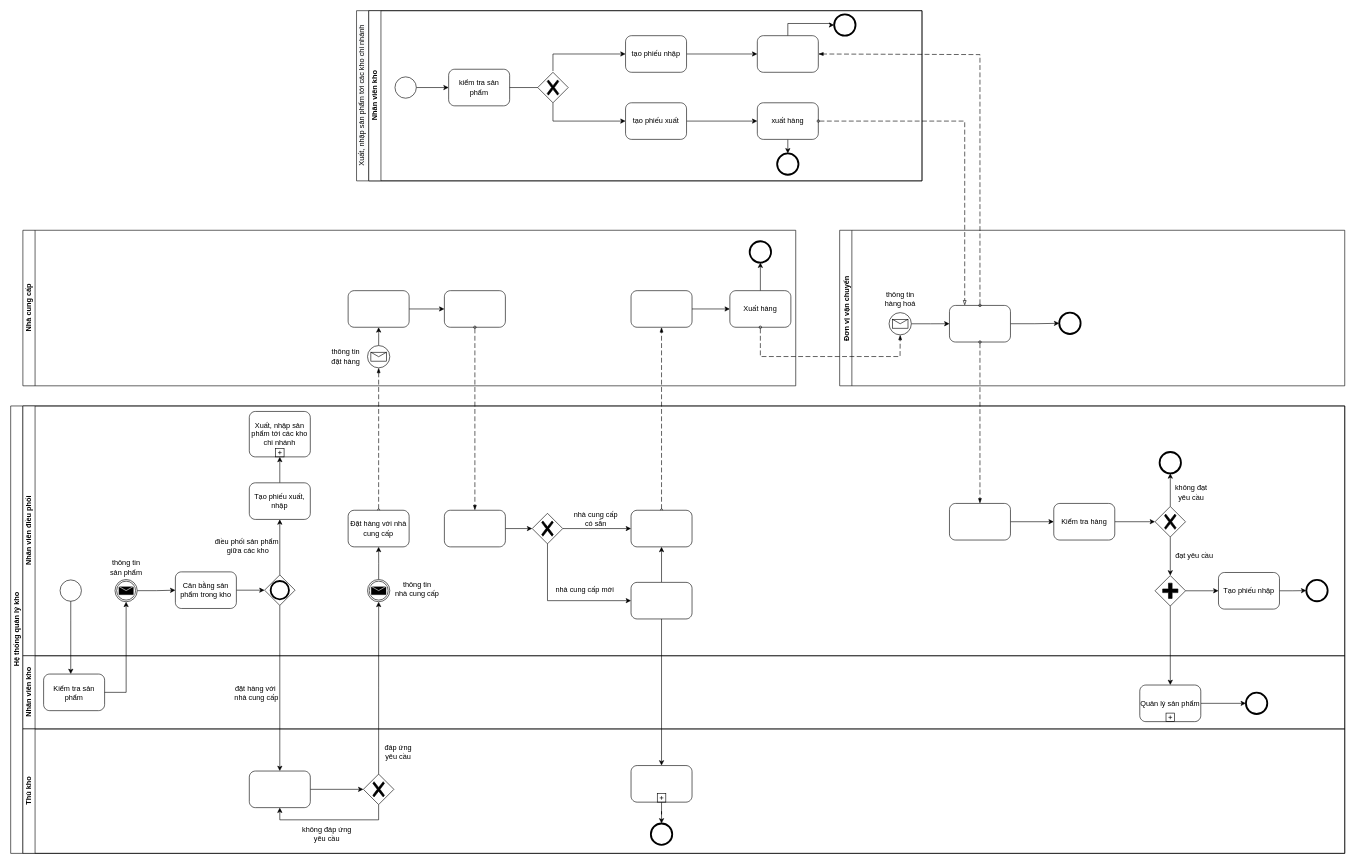
This 1355x864 diagram has some shape labels left out. The shapes that lost their labels are listed below. From the top down, each one's centre as x and y in pixels, then its label:
At (787,53): "nhập hàng".
At (378,308): "Xác nhận đặt hàng".
At (474,308): "Gửi thông tin sản phẩm".
At (661,308): "Xác nhận thanh toán".
At (979,323): "Giao hàng".
At (474,528): "Tạo hợp đồng".
At (661,528): "Tạo hoá đơn".
At (979,521): "Nhận hàng".
At (661,600): "Ghi lại thông tin nhà cung cấp".
At (279,789): "Liên hệ với các nhà cung cấp".
At (661,783): "Quản lý nhà cung cấp".
